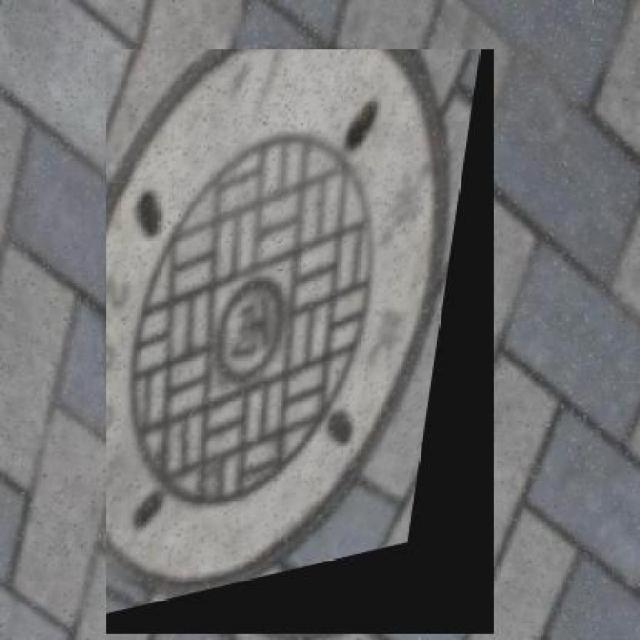Manhole: (106, 50, 494, 635)
